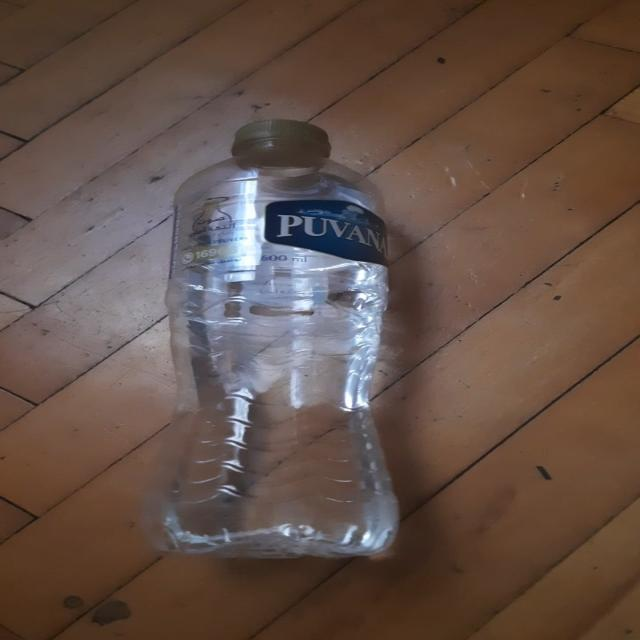Plastic: (153, 120, 400, 561)
